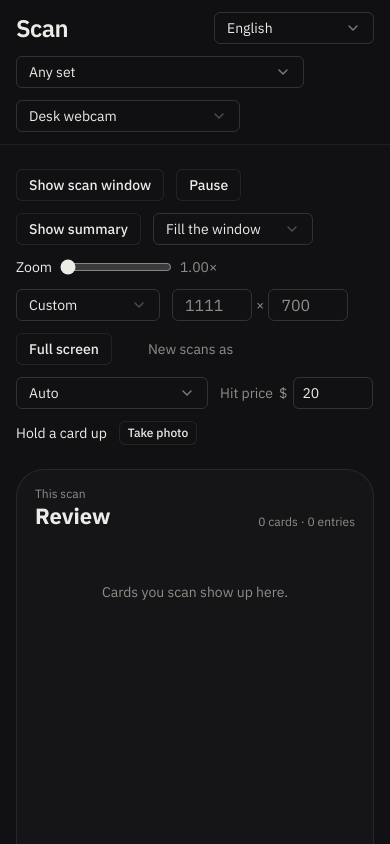
Test: Scan page › a typed size it can't use reverts
Replace the text in the field named "Window width" with "99999" at (212, 305), box [172, 289, 252, 321]
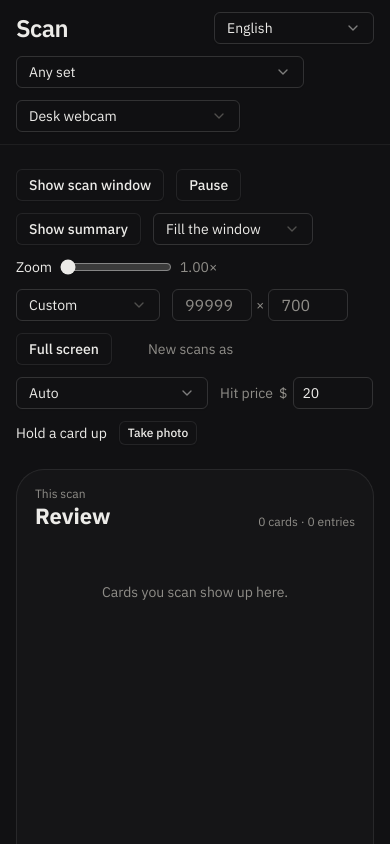
Leave the field named "Window width", box [172, 289, 252, 321]
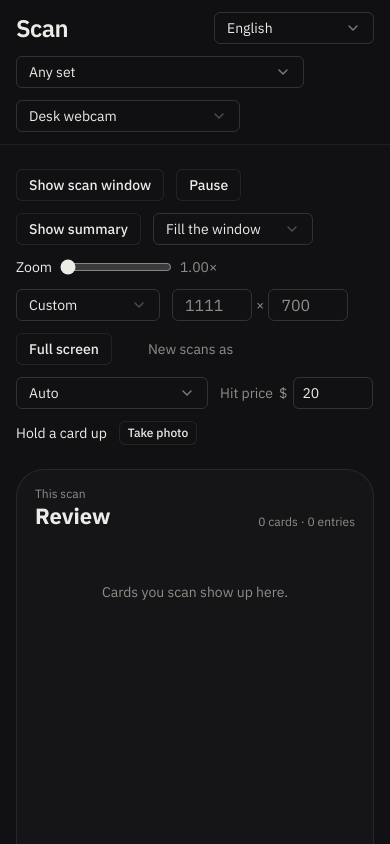
Now the field named "Window width" holds "1111", box [172, 289, 252, 321]
